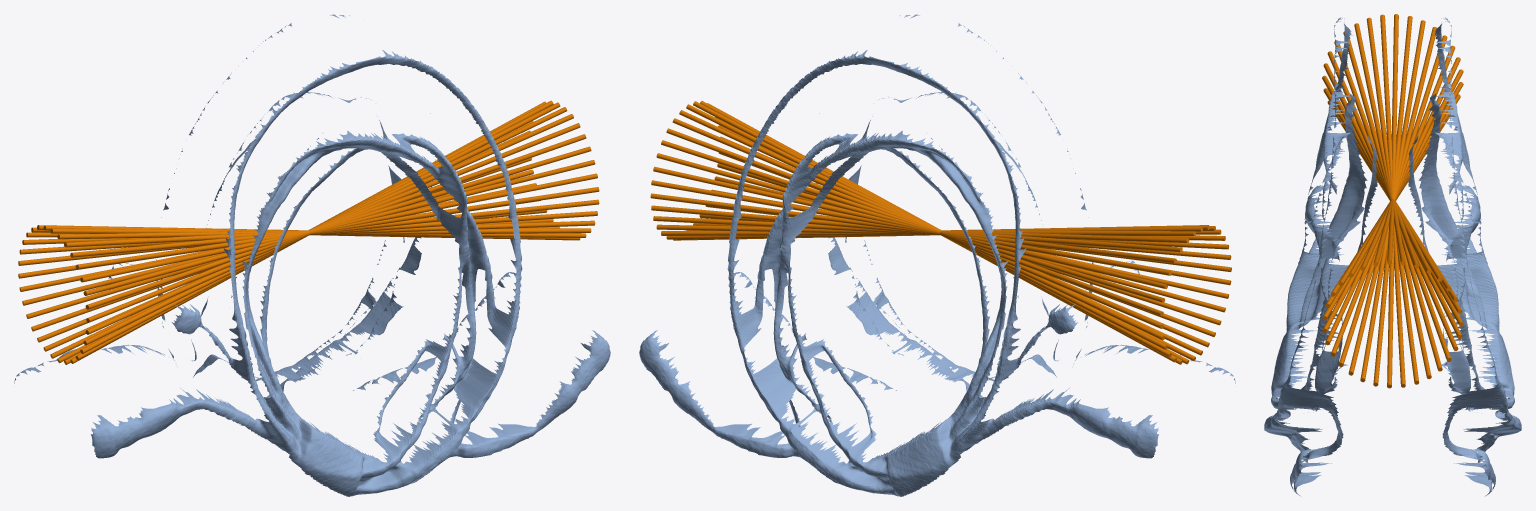
Rendered from A20021020_6145-37-531-1140_DigitalTwin.glb.
The picture shows the model from 3 angles, left to right: view 1: azimuth 30°, elevation 25°; view 2: azimuth 150°, elevation 25°; view 3: azimuth 270°, elevation 25°; orthographic projection.
Visible parts, largest first — view 1: world; view 2: world; view 3: world.
Boxes of the visible parts, left/top/right/bottom form: world: left=14, top=14, right=610, bottom=496; world: left=639, top=14, right=1235, bottom=496; world: left=1264, top=14, right=1521, bottom=496.
Size of the model in its own units: 482 by 376 by 212.
